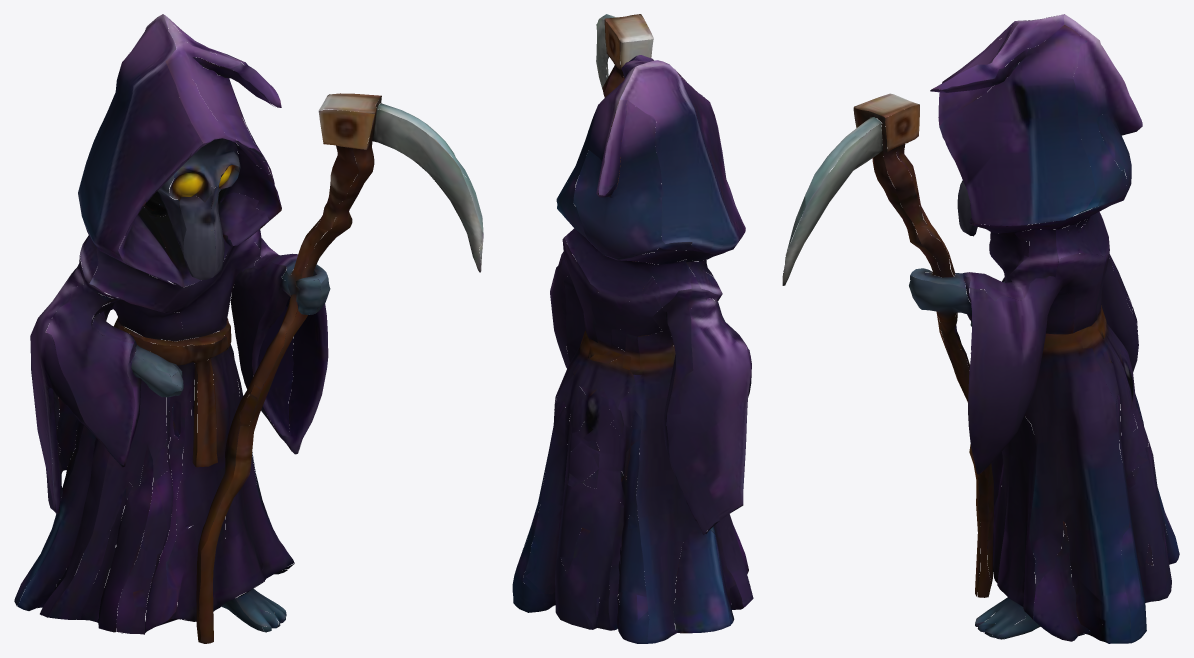
File: grim_reaper.glb
The picture shows the model from 3 angles, left to right: view 1: azimuth 30°, elevation 25°; view 2: azimuth 150°, elevation 25°; view 3: azimuth 270°, elevation 25°; orthographic projection. The views are drawn at different scales.
Parts seen in each view (by area): view 1: geometry_0; view 2: geometry_0; view 3: geometry_0.
Part boxes in pixels (x1,y1,x2,y2): geometry_0: (14,14,483,643); geometry_0: (512,14,753,643); geometry_0: (782,14,1179,643).
Size of the model in its own units: 0.5328 by 1 by 0.6176.
Materials: 1 (1 with a texture image).
